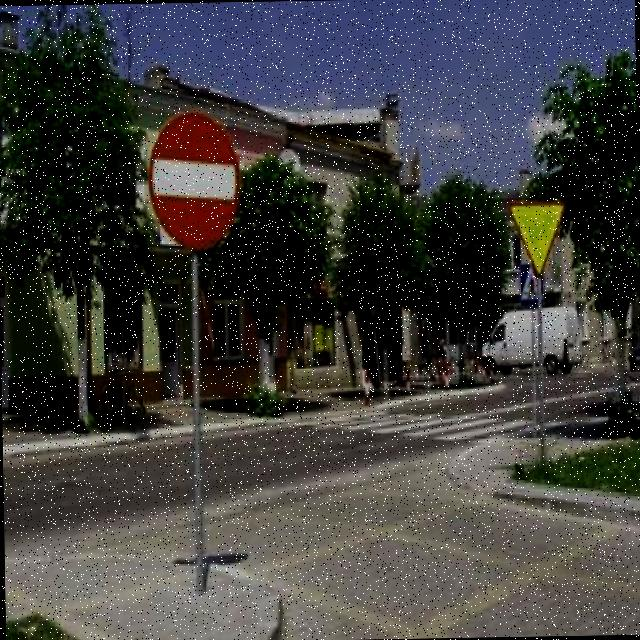Zakaz wjazdu: (144, 110, 242, 248)
